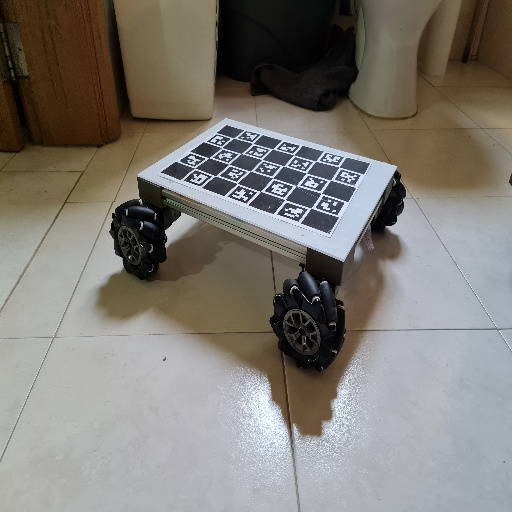Omniwheel: (110, 118, 407, 373)
